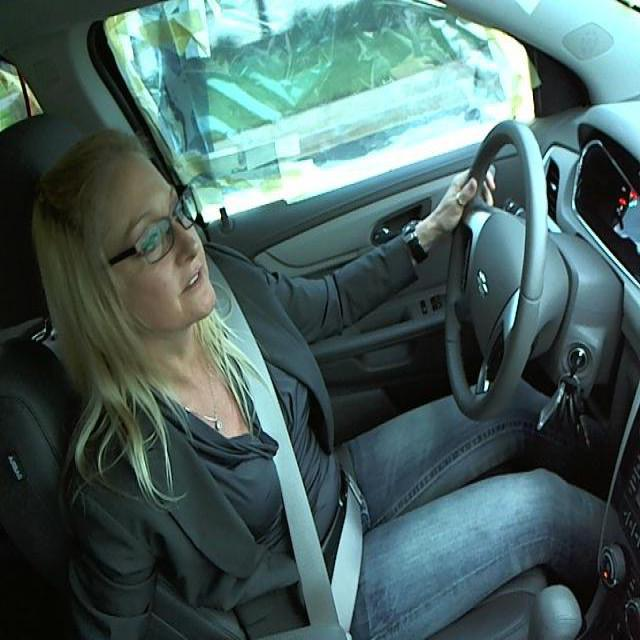seatbelt: (211, 322, 371, 638)
